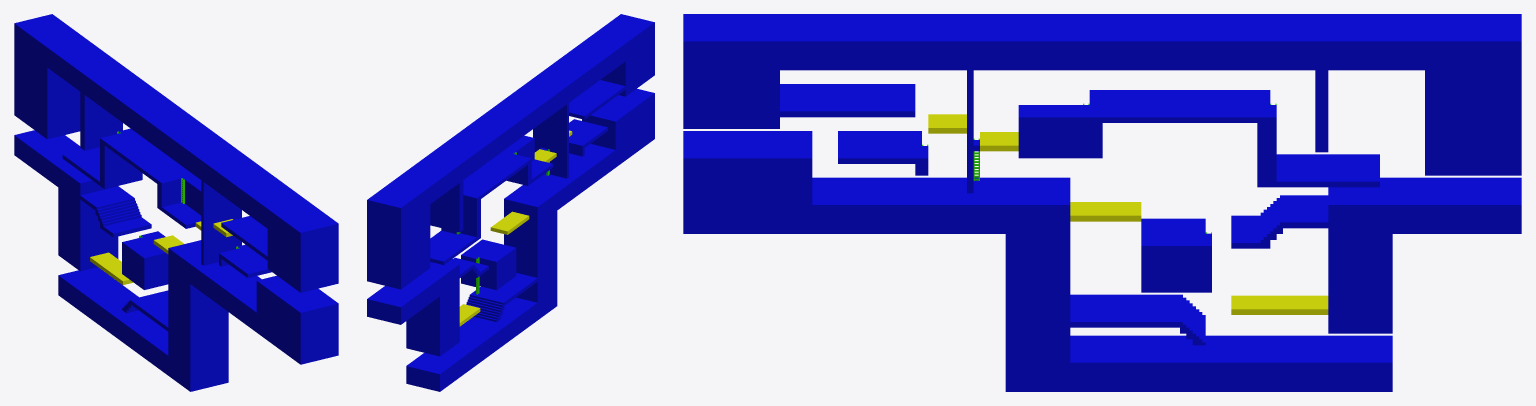
Rendered from Level_3_scene9_colored.fbx.
3 views of the same model, side by side, from view 1: azimuth 30°, elevation 25°; view 2: azimuth 150°, elevation 25°; view 3: azimuth 270°, elevation 25° (orthographic). The views are drawn at different scales.
Visible parts, largest first — view 1: Cube.048, Cube.120, Cube.114, Cube.049, Cube.101, Cube.099, Cube.097, Cube.118, Cube.013, Cube.004, Cube.012; view 2: Cube.048, Cube.120, Cube.049, Cube.101, Cube.099, Cube.118, Cube.097, Cube.012, Cube.004, Cube.114, Cube.117, Cube.013; view 3: Cube.048, Cube.120, Cube.101, Cube.099, Cube.004, Cube.114, Cube.118, Cube.097, Cube.013, Cube.117, Cube.012, Cube.049 (+2 smaller).
Boxes of the visible parts, x1=… form: Cube.048: x1=14, y1=14, x2=338, y2=391; Cube.120: x1=62, y1=92, x2=201, y2=228; Cube.114: x1=80, y1=186, x2=151, y2=237; Cube.049: x1=201, y1=180, x2=241, y2=265; Cube.101: x1=122, y1=233, x2=168, y2=289; Cube.099: x1=221, y1=216, x2=267, y2=260; Cube.097: x1=219, y1=246, x2=271, y2=277; Cube.118: x1=122, y1=290, x2=168, y2=318; Cube.013: x1=90, y1=252, x2=133, y2=284; Cube.004: x1=183, y1=175, x2=201, y2=215; Cube.012: x1=153, y1=235, x2=183, y2=254; Cube.048: x1=367, y1=14, x2=654, y2=391; Cube.120: x1=430, y1=151, x2=553, y2=264; Cube.049: x1=533, y1=103, x2=568, y2=178; Cube.101: x1=463, y1=239, x2=516, y2=290; Cube.099: x1=569, y1=80, x2=625, y2=119; Cube.118: x1=466, y1=285, x2=521, y2=321; Cube.097: x1=569, y1=119, x2=607, y2=156; Cube.012: x1=490, y1=211, x2=529, y2=234; Cube.004: x1=503, y1=135, x2=534, y2=160; Cube.114: x1=449, y1=257, x2=488, y2=277; Cube.117: x1=504, y1=273, x2=537, y2=292; Cube.013: x1=459, y1=304, x2=480, y2=326; Cube.048: x1=683, y1=14, x2=1521, y2=391; Cube.120: x1=1018, y1=70, x2=1379, y2=187; Cube.101: x1=1141, y1=218, x2=1205, y2=292; Cube.099: x1=780, y1=84, x2=915, y2=117; Cube.004: x1=1018, y1=105, x2=1089, y2=152; Cube.114: x1=1231, y1=195, x2=1328, y2=248; Cube.118: x1=1122, y1=294, x2=1205, y2=345; Cube.097: x1=838, y1=131, x2=921, y2=175; Cube.013: x1=1231, y1=295, x2=1328, y2=314; Cube.117: x1=1070, y1=294, x2=1121, y2=327; Cube.012: x1=1070, y1=202, x2=1141, y2=221; Cube.049: x1=967, y1=70, x2=973, y2=193.
Size of the model in its own units: 1000 by 6000 by 13000.
